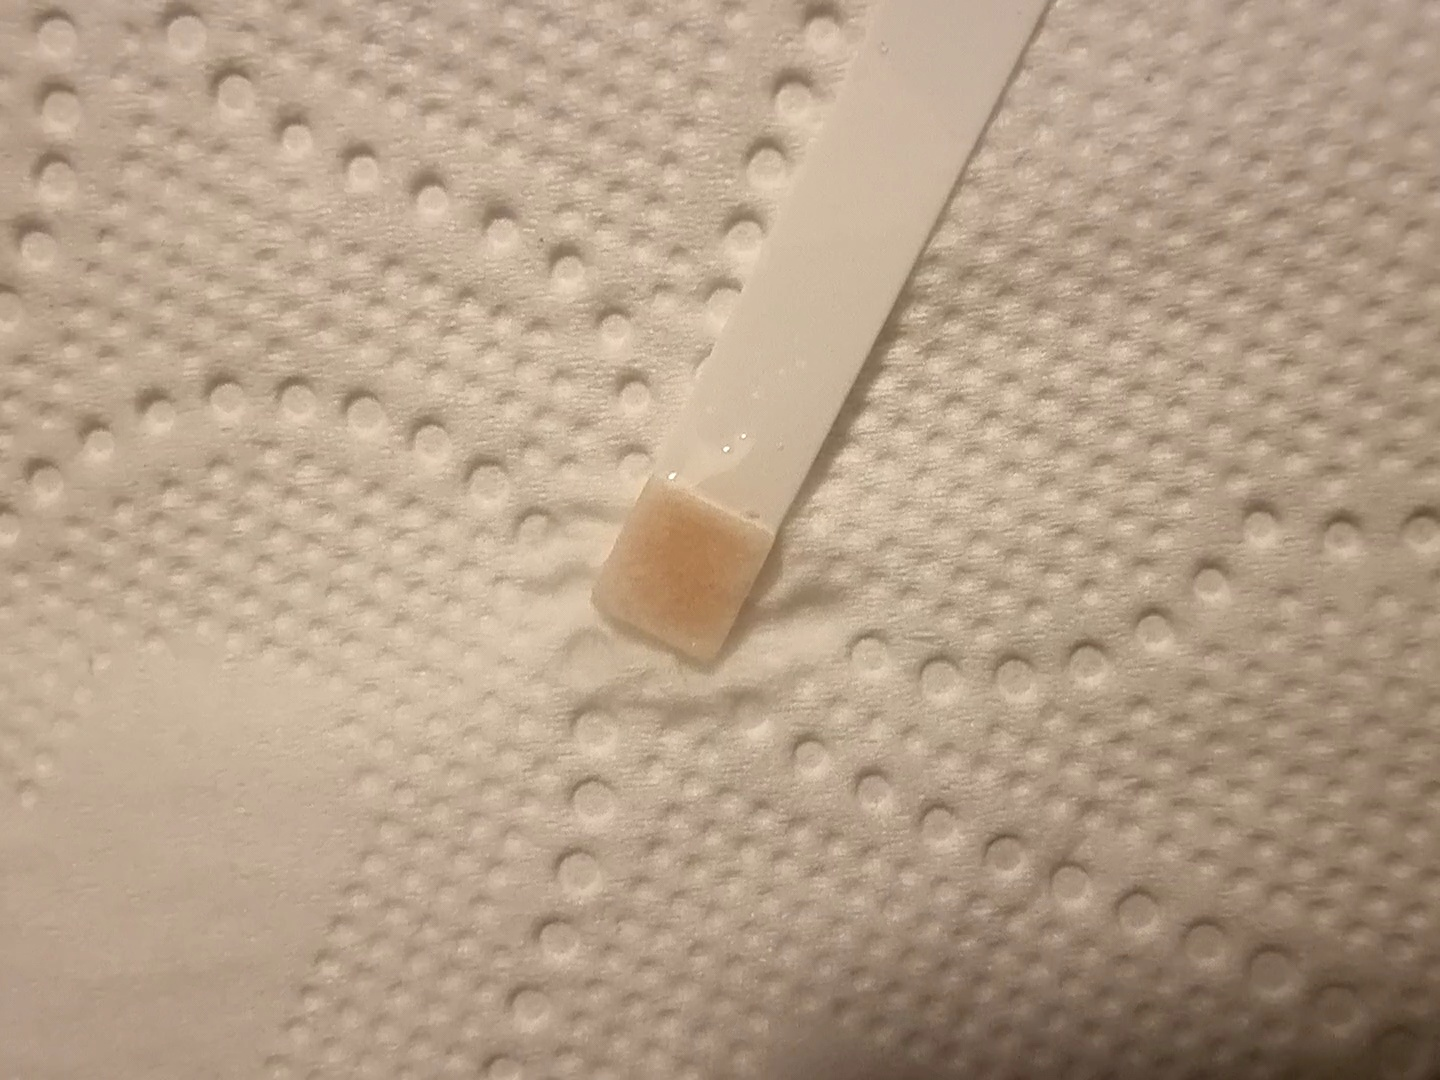keto-tip: (584, 469, 783, 673)
